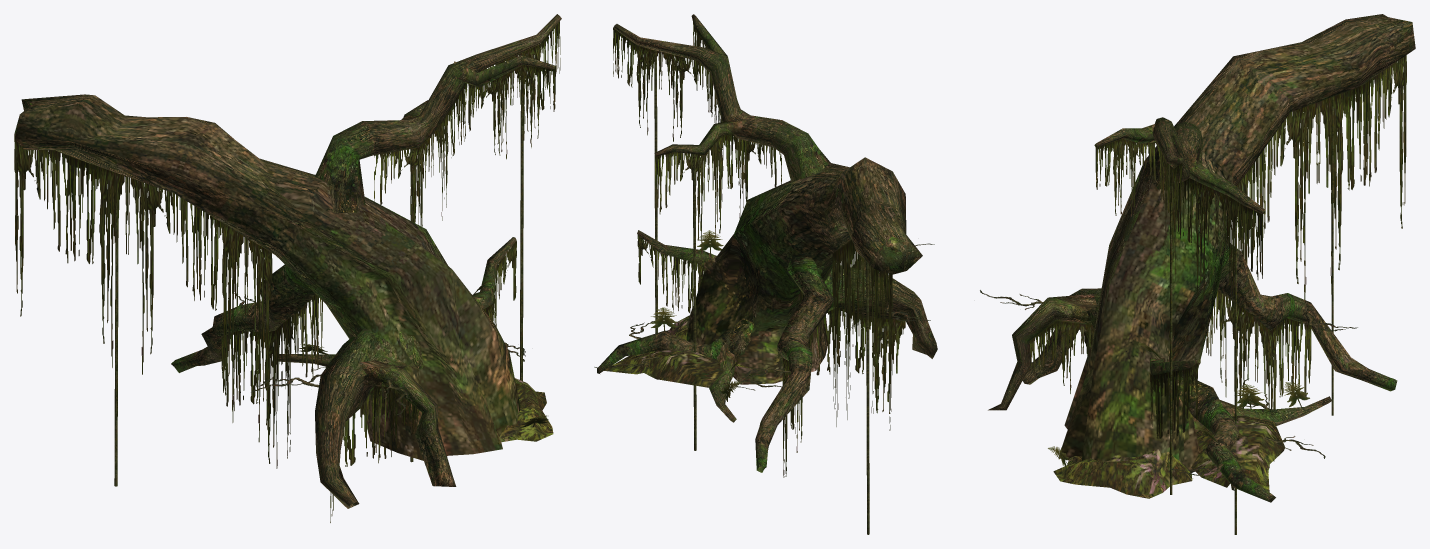
Rendered from wlf_shuzhuang_z.FBX.
The picture shows the model from 3 angles, left to right: view 1: azimuth 30°, elevation 25°; view 2: azimuth 150°, elevation 25°; view 3: azimuth 270°, elevation 25°; orthographic projection. The views are drawn at different scales.
Visible parts, largest first — view 1: wlf_shuzhuang_z; view 2: wlf_shuzhuang_z; view 3: wlf_shuzhuang_z.
Part boxes in pixels (left/top/right/bottom): wlf_shuzhuang_z: left=14, top=14, right=561, bottom=522; wlf_shuzhuang_z: left=594, top=14, right=937, bottom=534; wlf_shuzhuang_z: left=980, top=14, right=1415, bottom=534.
Size of the model in its own units: 555 by 519 by 481.
Materials: 1 (1 with a texture image).
